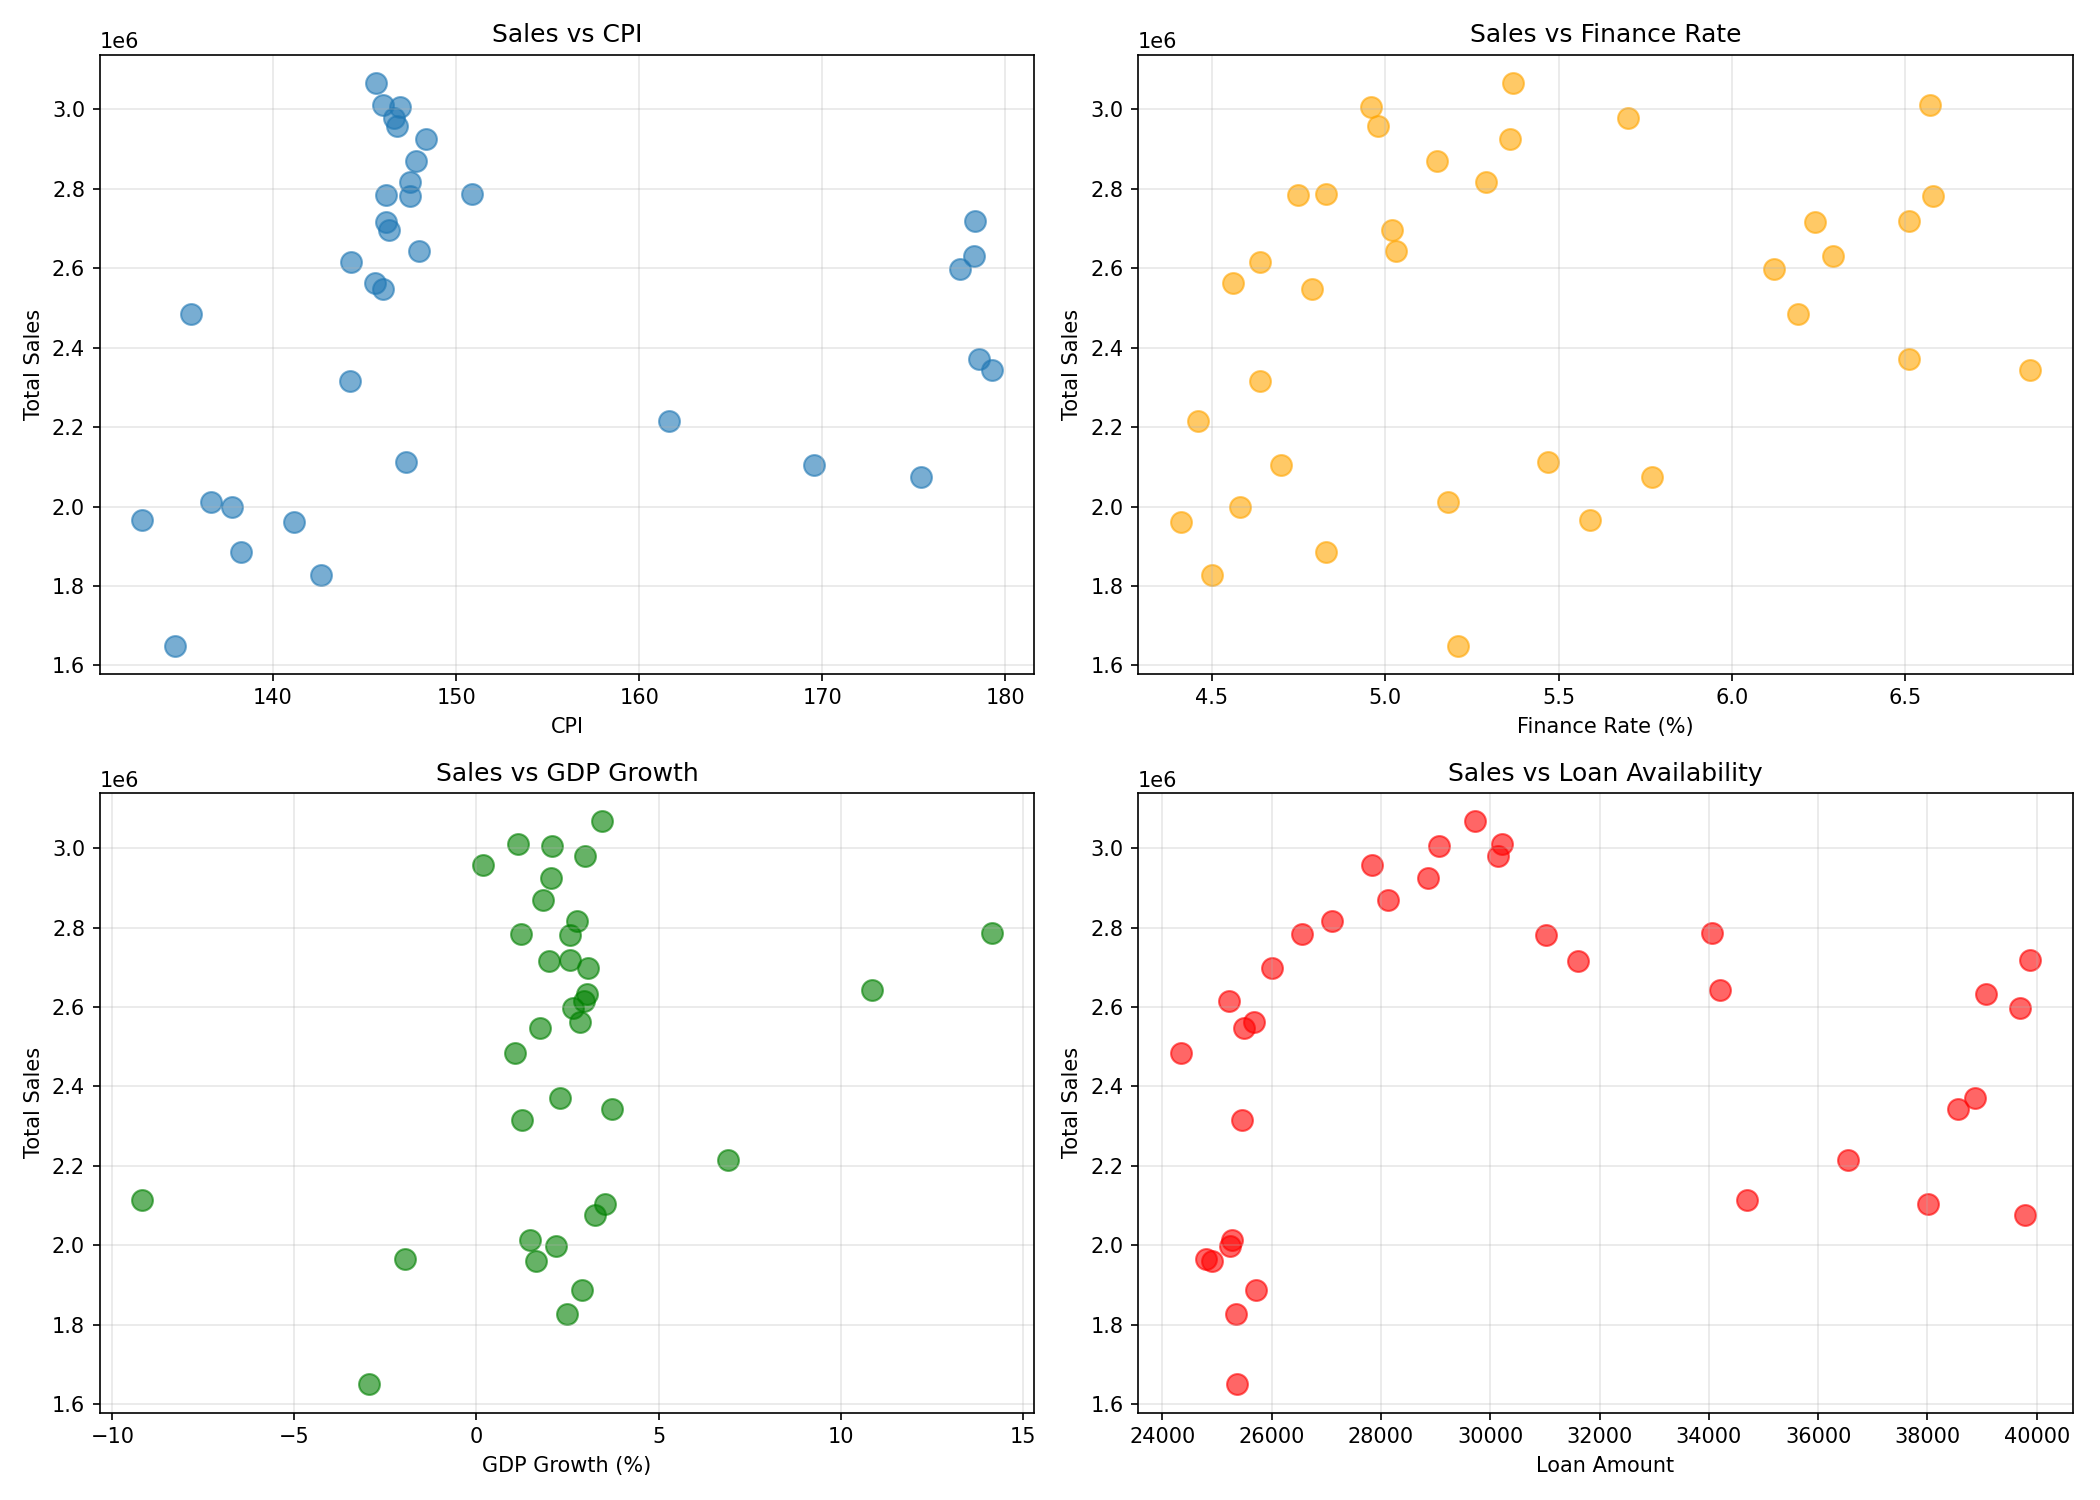

Layout of this report page (visuals, bound fields, positions):
{"tool":"tableau","page":{"name":"Dashboard 2","canvas":[1000,800],"ordinal":1},"visuals":[{"type":"worksheet","title":"Sheet 3","mark":"Automatic","rows":["Manufacturer"],"cols":["Elasticity_Percent"],"box":[8,8,492,392]},{"type":"worksheet","title":"Sheet 4","mark":"Automatic","rows":["Variable_1"],"cols":["Correlation"],"box":[500,8,492,392]},{"type":"worksheet","title":"Sheet 5","mark":"Automatic","rows":["Variable"],"cols":["Std_Dev","Mean"],"box":[8,400,492,392]},{"type":"worksheet","title":"Sheet 8","mark":"Bar","rows":["Variable"],"cols":["Mean","Std_Dev","Min","Max","Median"],"box":[500,400,492,392]}]}

Visuals, with their boxes on the page's 1000x800 design canvas (x1, y1, x2, y2). These are canvas units, not pixel positions in the 2100x1500 screenshot, which may show the page scaled, cropped or inside an application window:
"Sheet 3" worksheet: box=[8, 8, 500, 400]
"Sheet 4" worksheet: box=[500, 8, 992, 400]
"Sheet 5" worksheet: box=[8, 400, 500, 792]
"Sheet 8" worksheet (Bar marks): box=[500, 400, 992, 792]
